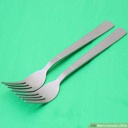fork: (3, 16, 128, 105)
